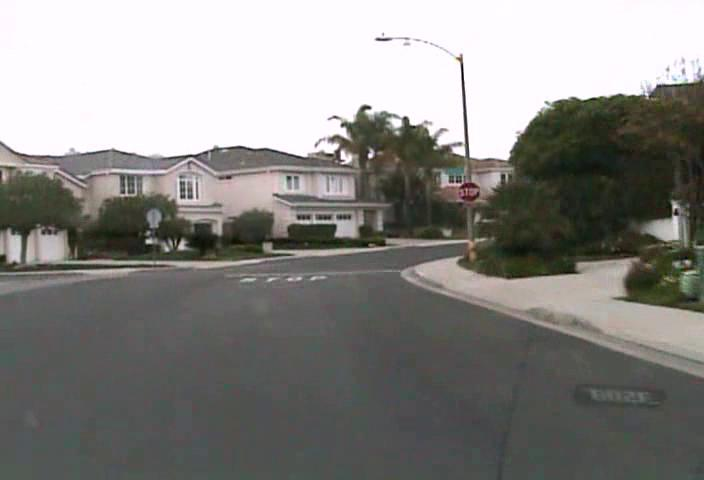stop: (457, 180, 481, 204)
